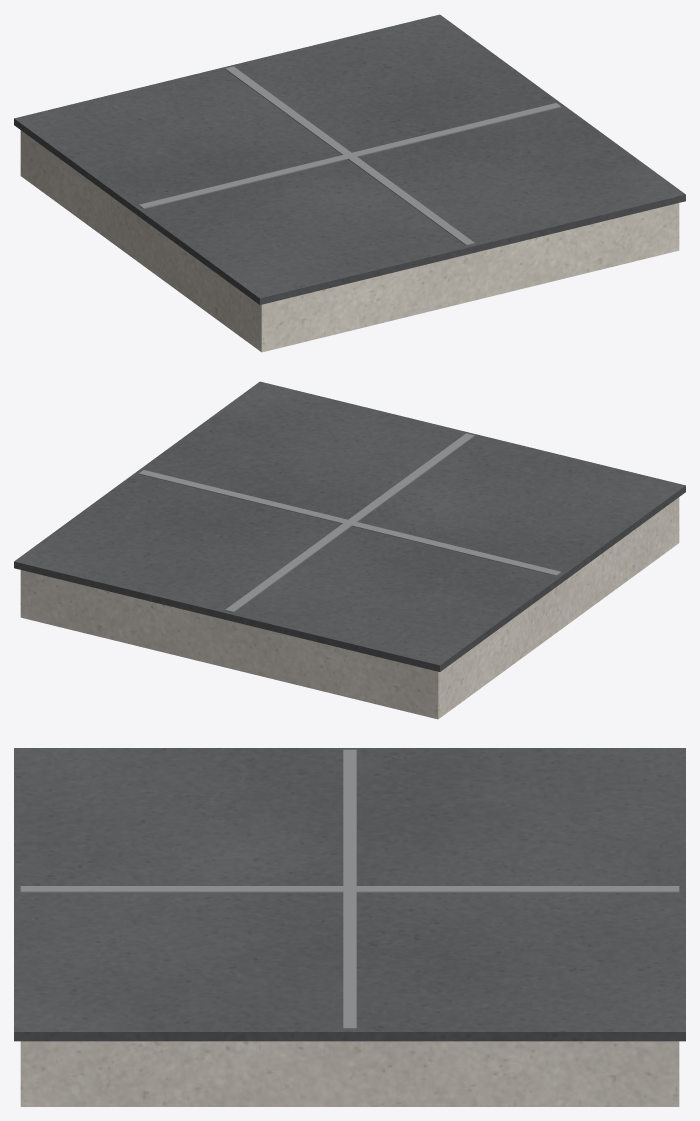
The model's file is floor_membrane_r.glb.
3 views of the same model, one above another, from view 1: azimuth 30°, elevation 25°; view 2: azimuth 150°, elevation 25°; view 3: azimuth 270°, elevation 25° (orthographic). The views are drawn at different scales.
Visible parts, largest first — view 1: floor_membrane_r_membrane, floor_membrane_r_plaster, floor_membrane_r_seam; view 2: floor_membrane_r_membrane, floor_membrane_r_plaster, floor_membrane_r_seam; view 3: floor_membrane_r_membrane, floor_membrane_r_plaster, floor_membrane_r_seam.
Boxes of the visible parts, x1,y1,x2,y2 form: floor_membrane_r_membrane: (14, 14, 685, 304); floor_membrane_r_plaster: (20, 130, 679, 352); floor_membrane_r_seam: (138, 66, 561, 245); floor_membrane_r_membrane: (14, 381, 685, 671); floor_membrane_r_plaster: (20, 497, 679, 719); floor_membrane_r_seam: (138, 433, 561, 612); floor_membrane_r_membrane: (14, 748, 685, 1041); floor_membrane_r_plaster: (20, 1041, 679, 1106); floor_membrane_r_seam: (20, 749, 679, 1029).
Size of the model in its own units: 2 by 0.259 by 2.
Materials: 3 (2 with a texture image).
